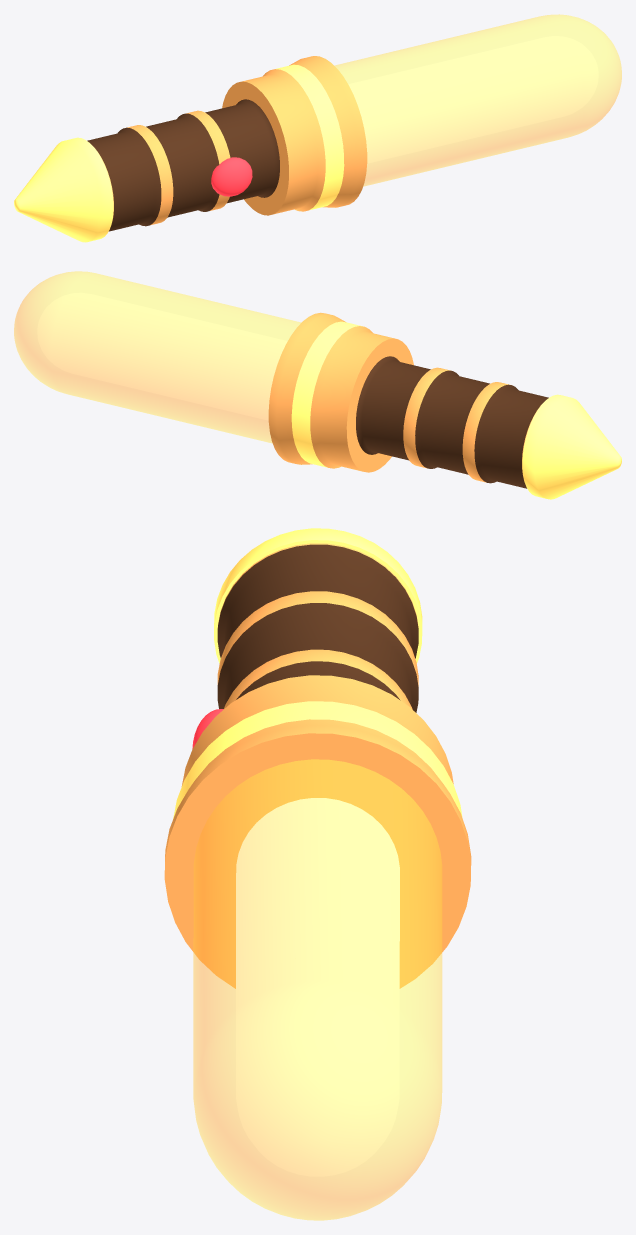
3 renders of one model, top to bottom at view 1: azimuth 30°, elevation 25°; view 2: azimuth 150°, elevation 25°; view 3: azimuth 270°, elevation 25°, orthographic. The views are drawn at different scales.
Parts seen in each view (by area): view 1: SaberMini; view 2: SaberMini; view 3: SaberMini.
Part boxes in pixels (bbox=[...]): SaberMini: bbox=[14, 14, 621, 242]; SaberMini: bbox=[14, 271, 621, 499]; SaberMini: bbox=[164, 528, 471, 1220].
Bounding box in the file's own units: 5.66 × 1.26 × 1.25.
